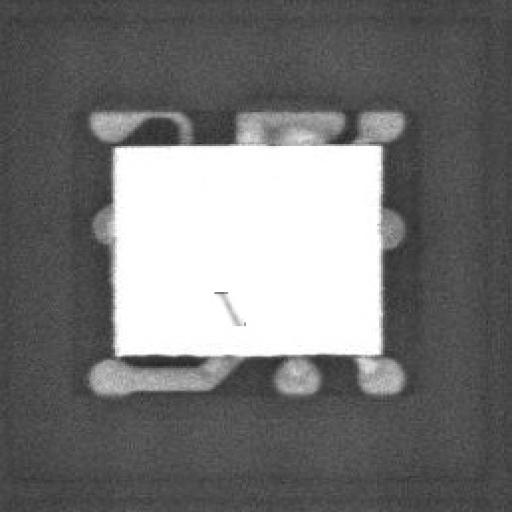DIE_INK: (203, 304, 231, 337)
